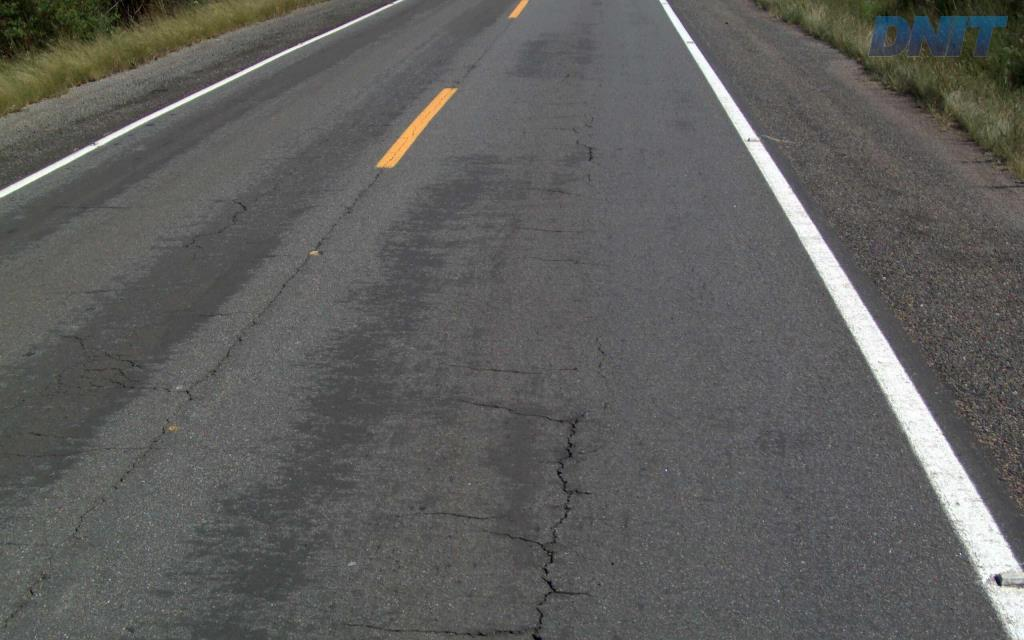crack: (413, 401, 592, 639)
